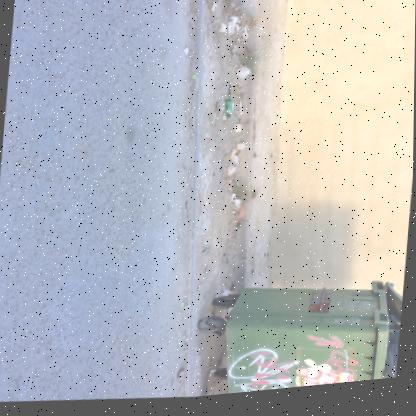Glass: (213, 177, 216, 181)
Paper: (234, 204, 242, 212), (236, 88, 242, 92)
Plastic: (383, 340, 401, 387), (224, 104, 232, 123), (227, 26, 234, 41), (210, 374, 217, 380), (182, 305, 185, 311), (217, 133, 220, 136)
Waste: (241, 30, 248, 45), (219, 294, 231, 301), (211, 5, 216, 15), (231, 198, 236, 207), (183, 52, 188, 60), (192, 78, 196, 84), (239, 106, 242, 113), (231, 7, 234, 12), (192, 8, 195, 12), (190, 136, 193, 140), (228, 192, 231, 196), (221, 58, 223, 62), (186, 342, 188, 346)
